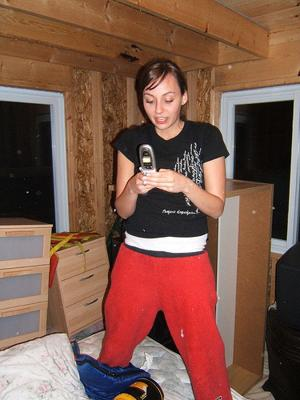person: (97, 57, 233, 400)
